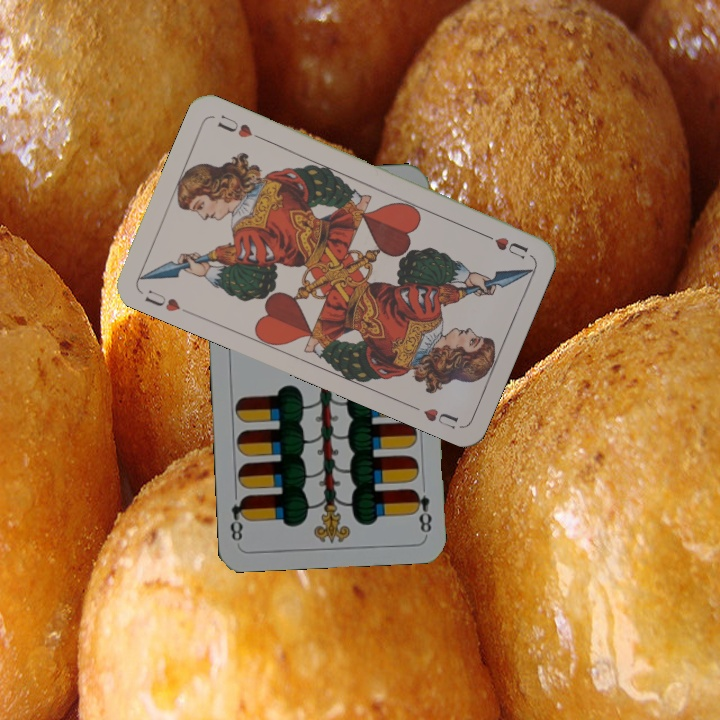E8: (408, 485, 435, 535)
HU: (477, 228, 531, 261), (141, 285, 183, 315)
